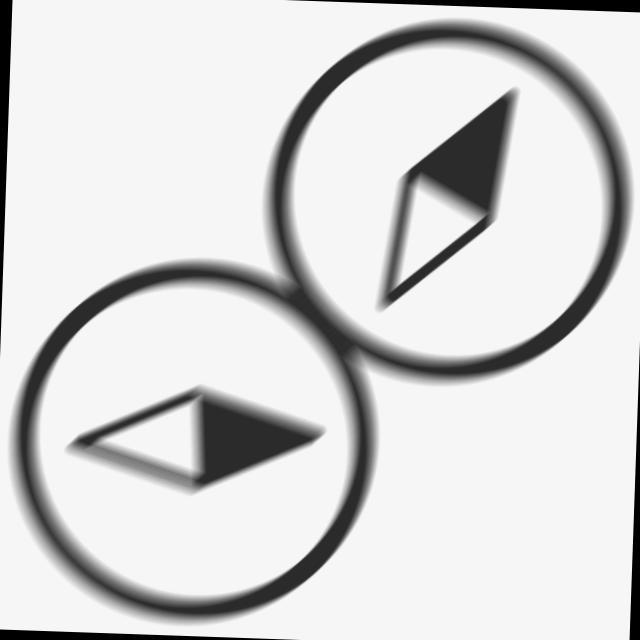compass: (2, 240, 402, 636), (245, 4, 640, 400)
